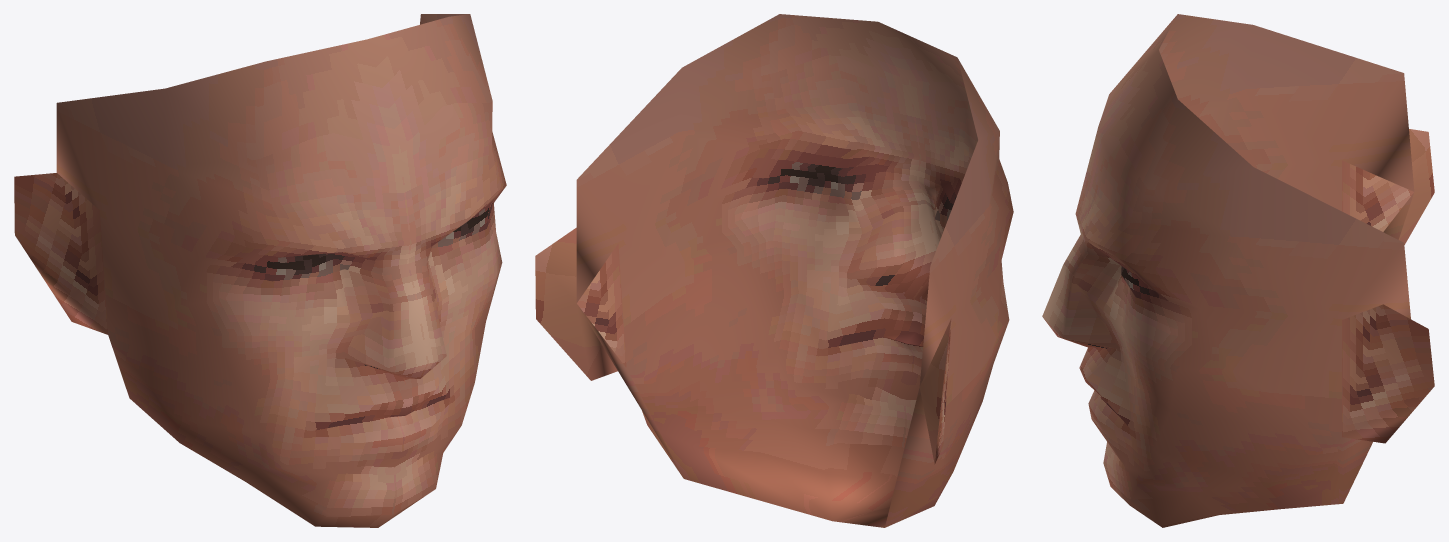
The picture shows the model from 3 angles, left to right: view 1: azimuth 30°, elevation 25°; view 2: azimuth 150°, elevation 25°; view 3: azimuth 270°, elevation 25°; orthographic projection. The views are drawn at different scales.
Size of the model in its own units: 17.18 by 18.64 by 14.46.
1 material, 1 textured.
